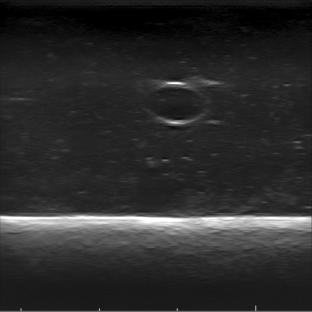vessel: (144, 80, 207, 125)
